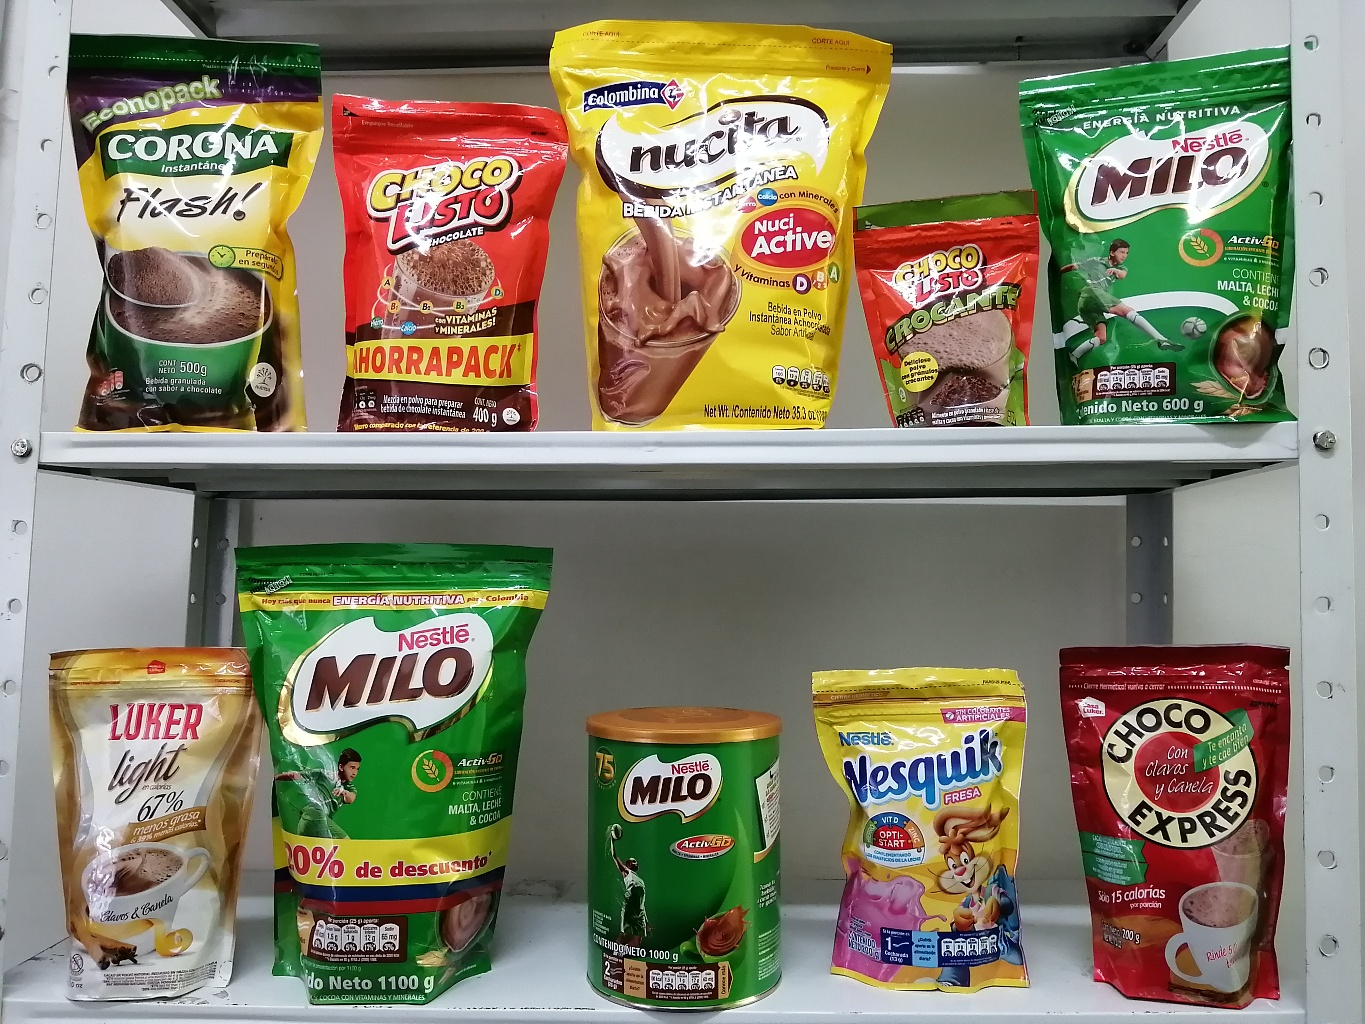COL0170102DYP10000: (857, 184, 1032, 423)
COL0170103DYP40000: (333, 85, 578, 427)
COL0170305DYP20000: (815, 657, 1061, 1023)
